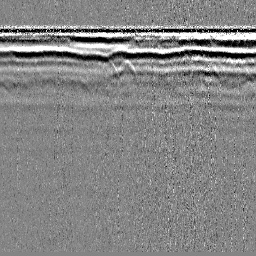cavity: (115, 58, 136, 77)
